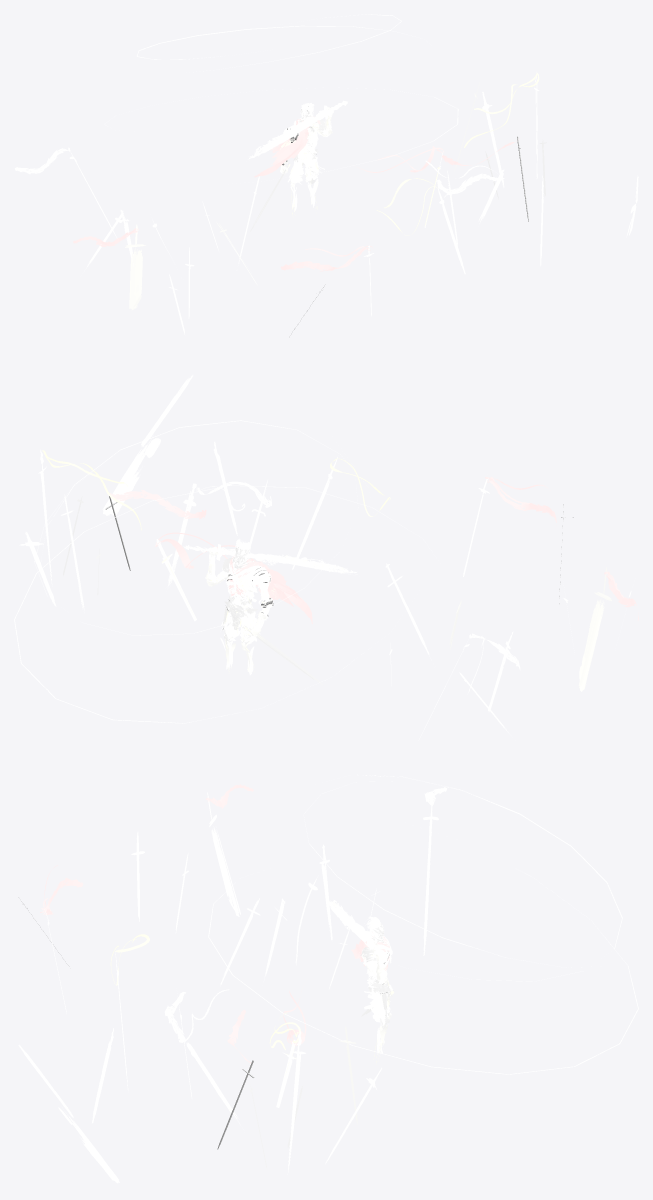
File: soul_of_cinder_-_dark_souls_3_boss_tilt_brush.glb
The picture shows the model from 3 angles, top to bottom: view 1: azimuth 30°, elevation 25°; view 2: azimuth 150°, elevation 25°; view 3: azimuth 270°, elevation 25°; orthographic projection. The views are drawn at different scales.
Visible parts, largest first — view 1: All_Oil_Paint, All_Thick_Paint, All_Light, All_Paper, All_Fire; view 2: All_Oil_Paint, All_Thick_Paint, All_Light, All_Paper, All_Fire, All_Duct_Tape; view 3: All_Oil_Paint, All_Thick_Paint, All_Light, All_Paper, All_Ink.
Boxes of the visible parts, left/top/right/bottom form: All_Oil_Paint: left=68, top=82, right=638, bottom=334; All_Thick_Paint: left=15, top=116, right=543, bottom=271; All_Light: left=104, top=14, right=458, bottom=181; All_Paper: left=287, top=72, right=539, bottom=183; All_Fire: left=248, top=103, right=328, bottom=188; All_Oil_Paint: left=19, top=375, right=631, bottom=740; All_Thick_Paint: left=110, top=441, right=638, bottom=670; All_Light: left=14, top=420, right=431, bottom=723; All_Paper: left=42, top=450, right=268, bottom=643; All_Fire: left=208, top=540, right=357, bottom=653; All_Duct_Tape: left=159, top=544, right=273, bottom=621; All_Oil_Paint: left=18, top=792, right=438, bottom=1183; All_Thick_Paint: left=40, top=784, right=446, bottom=1063; All_Light: left=208, top=774, right=638, bottom=1074; All_Paper: left=269, top=983, right=388, bottom=1050; All_Ink: left=287, top=950, right=388, bottom=1174.
Bounding box in the file's own units: 9892 × 3780 × 8593.
10 materials, 9 textured.
